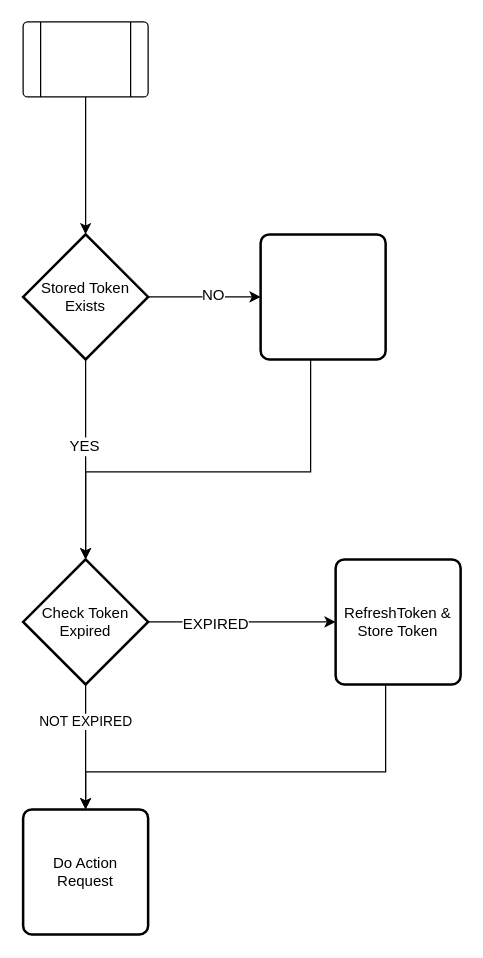
Some shapes in this 483 by 958 pixel diagram are drawn without their labels. The shapes that lost their labels are listed below. From the top down, each one's box as (x1, y1, x2, y2) in pixels, then its label:
(22, 21, 148, 97): Send Action
(259, 232, 386, 360): Get Anonym Token & Store Token
